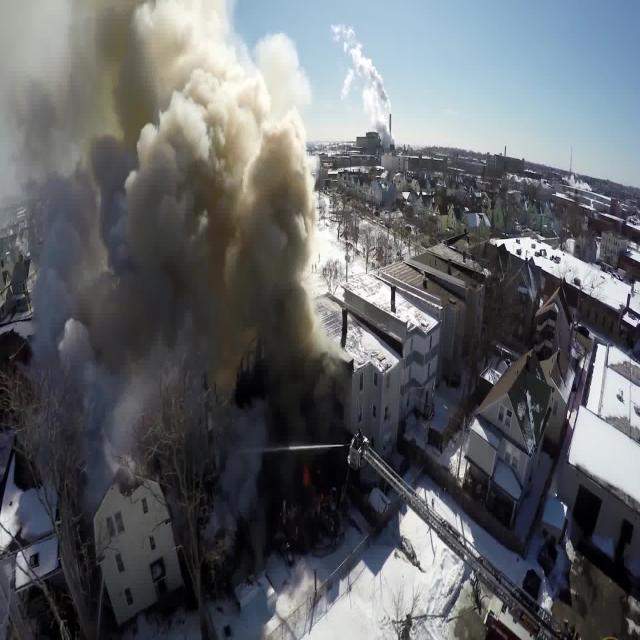Smoke: (0, 0, 321, 473)
